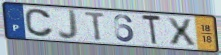6: (113, 14, 136, 43)
C: (23, 7, 55, 38)
J: (56, 8, 79, 42)
T: (84, 10, 107, 42), (141, 14, 163, 47)
X: (165, 16, 198, 47)
